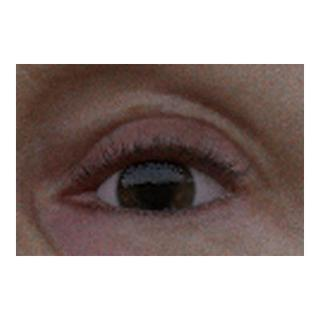pupil: (137, 172, 172, 207)
